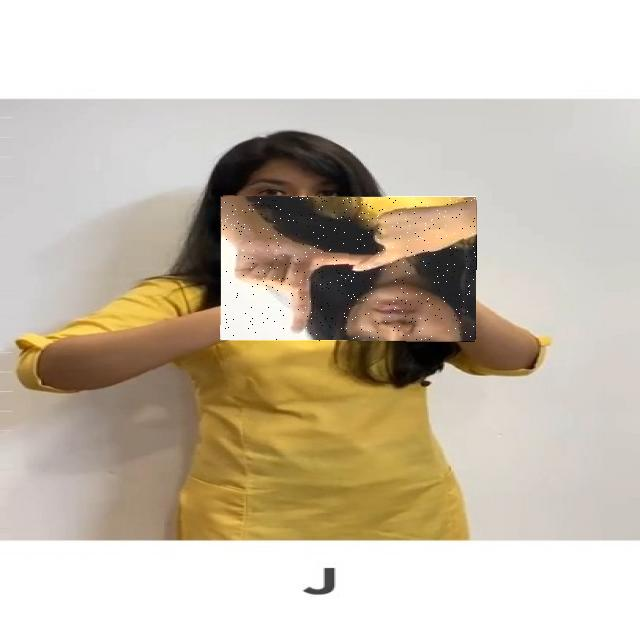J: (220, 196, 477, 341)
